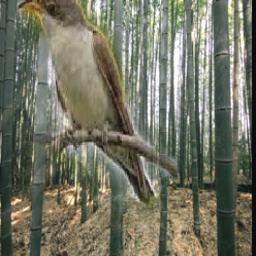Cuckoo: (17, 0, 178, 241)
